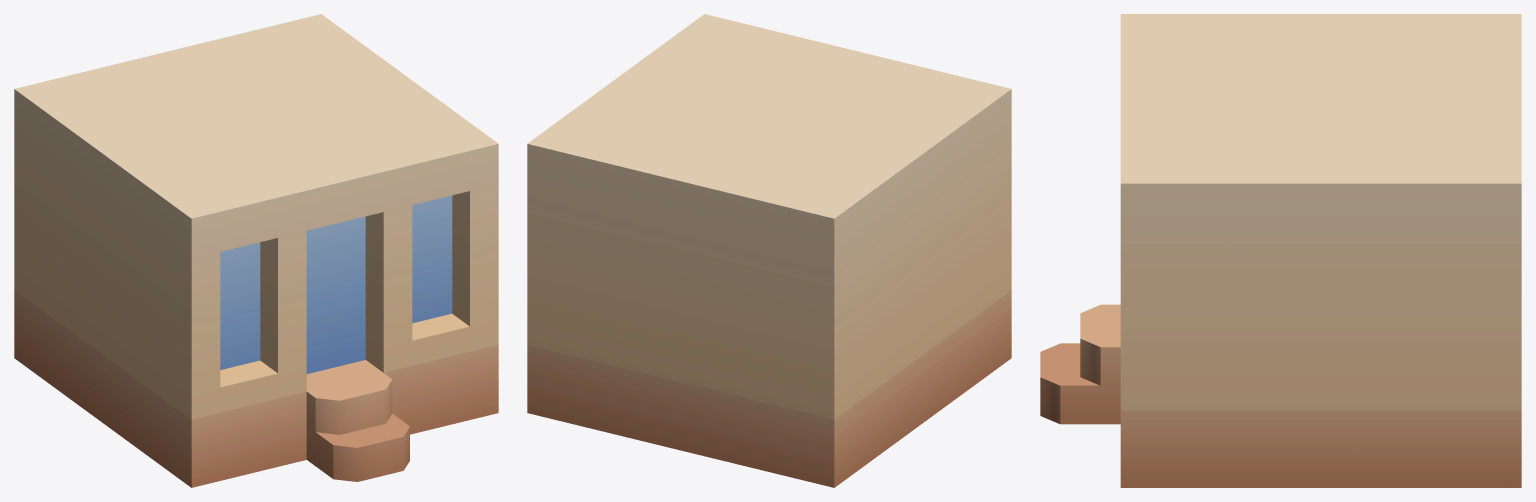
The model's file is kenney-modular-buildings-building-steps-narrow-windows.glb.
3 views of the same model, side by side, from view 1: azimuth 30°, elevation 25°; view 2: azimuth 150°, elevation 25°; view 3: azimuth 270°, elevation 25° (orthographic). The views are drawn at different scales.
Visible parts, largest first — view 1: building-steps-narrow-windows; view 2: building-steps-narrow-windows; view 3: building-steps-narrow-windows.
Boxes of the visible parts, x1=… form: building-steps-narrow-windows: x1=14, y1=14, x2=498, y2=487; building-steps-narrow-windows: x1=527, y1=14, x2=1011, y2=487; building-steps-narrow-windows: x1=1040, y1=14, x2=1521, y2=487.
Bounding box in the file's own units: 1 × 0.8375 × 1.2.
Materials: 1 (1 with a texture image).
